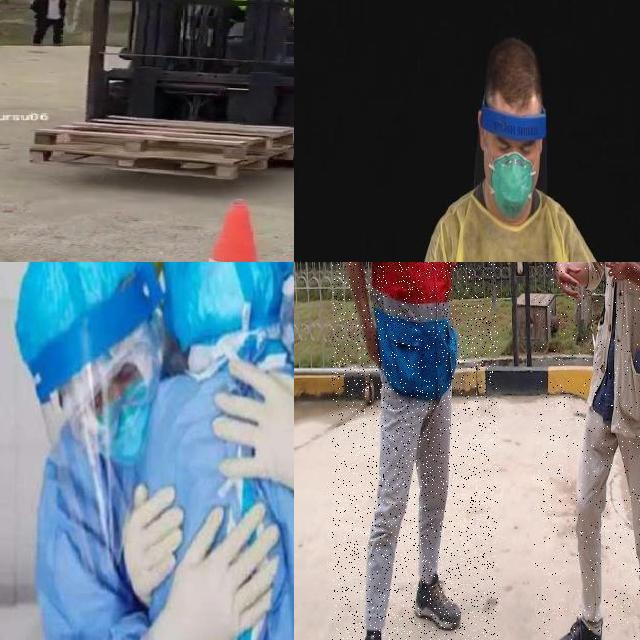BOOTS: (415, 574, 462, 636), (548, 615, 605, 640)
Glove: (141, 506, 278, 640), (225, 330, 294, 537), (106, 489, 192, 572)
MASK: (83, 380, 157, 462), (487, 146, 538, 212)
VEST: (372, 262, 460, 397)
